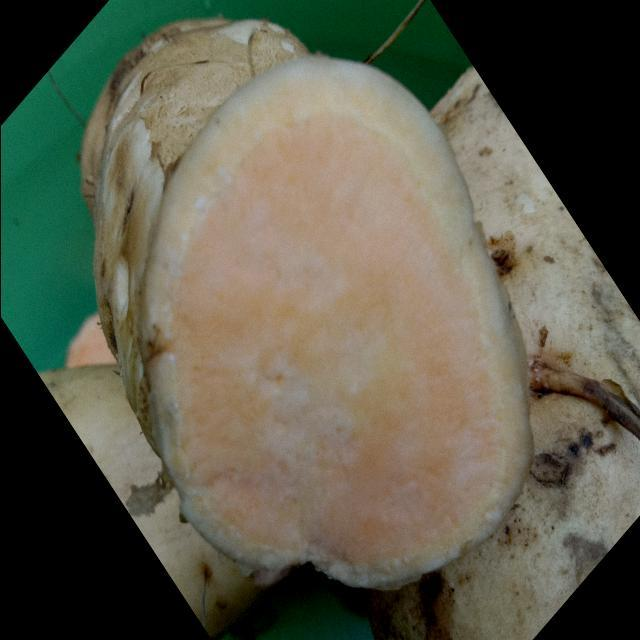Healthy Sweet Potato: (141, 57, 531, 588)
